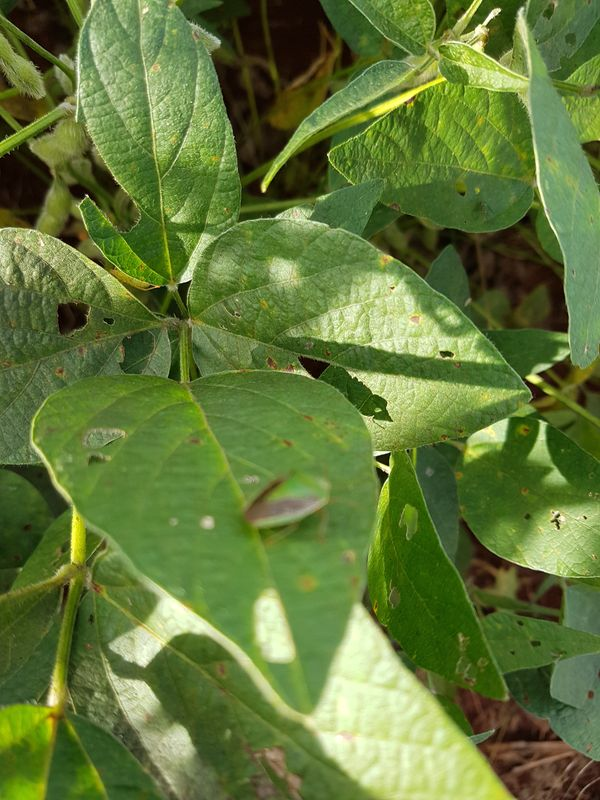Edessa_meditabunda: (228, 458, 346, 542)
